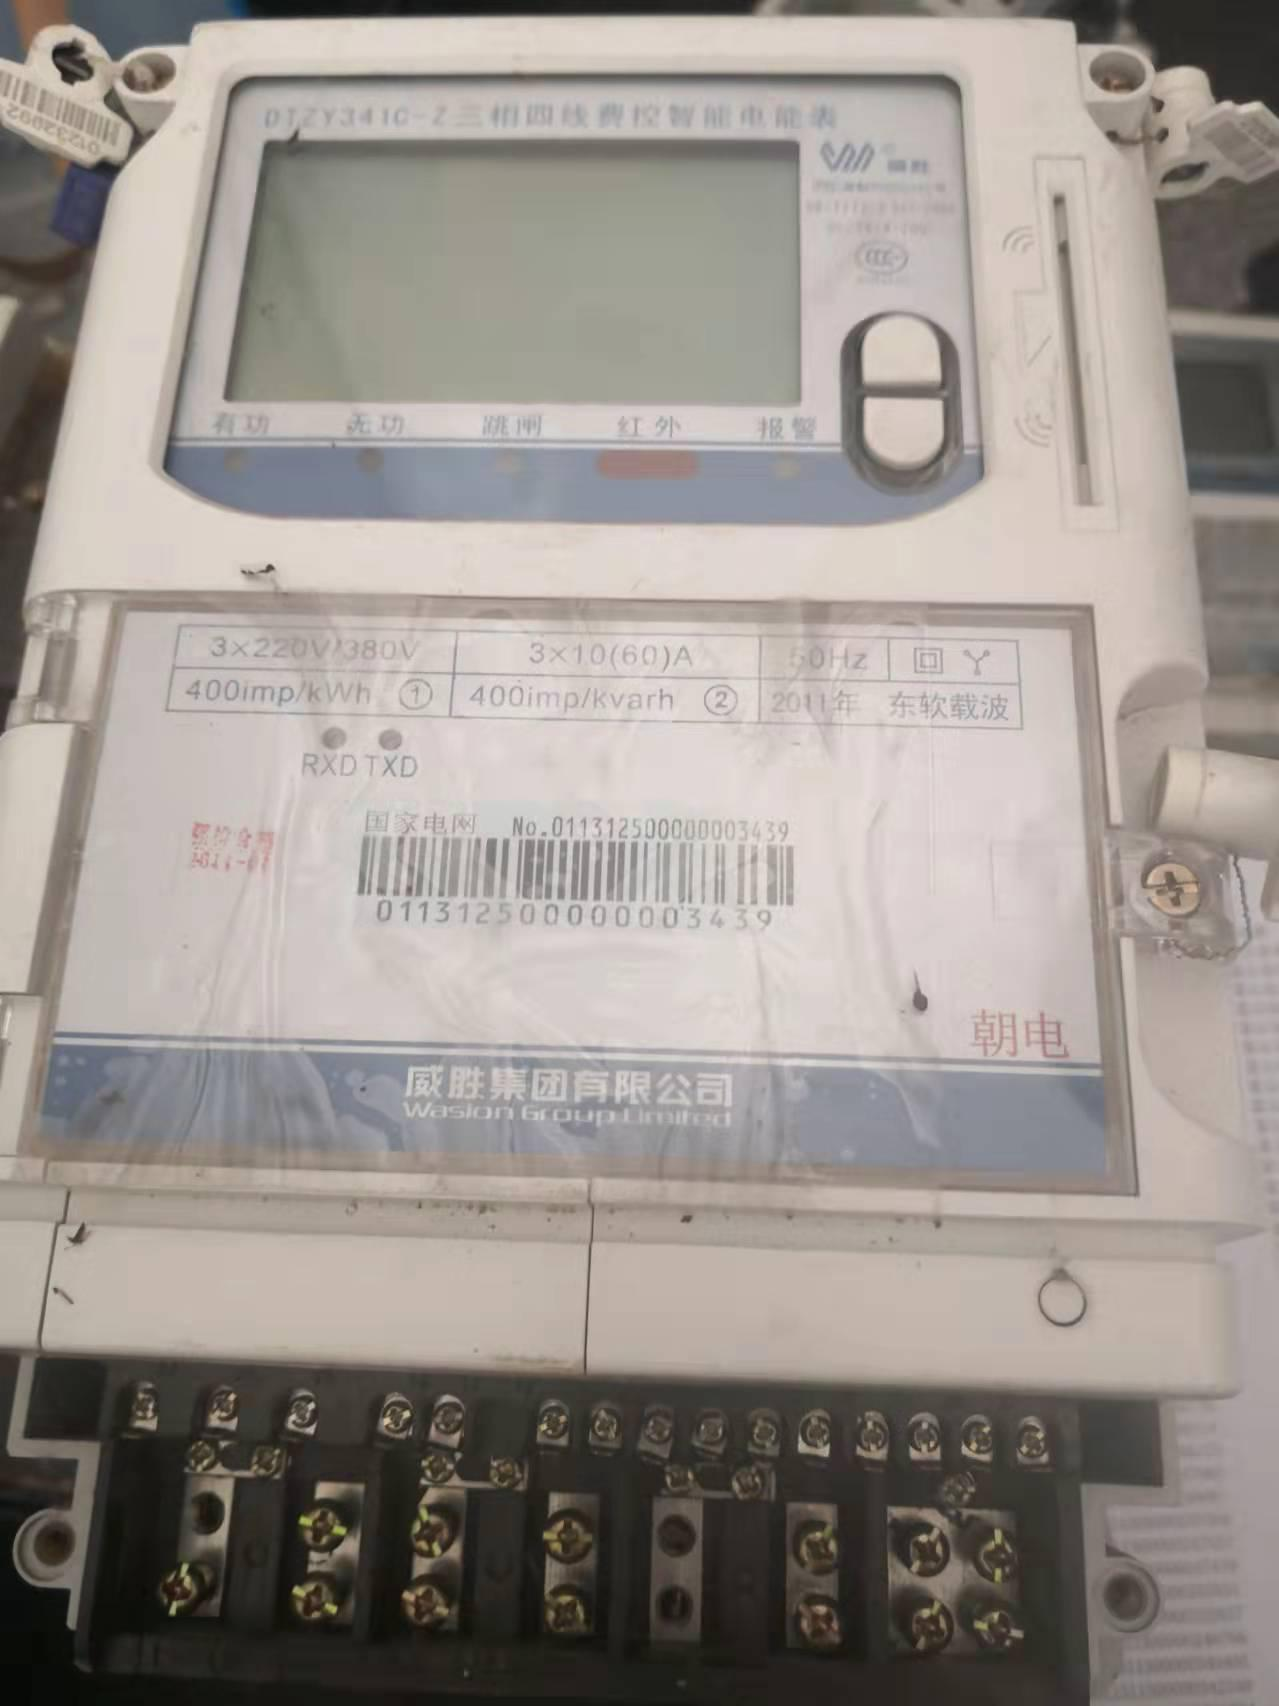digital: (1, 16, 1270, 1230)
